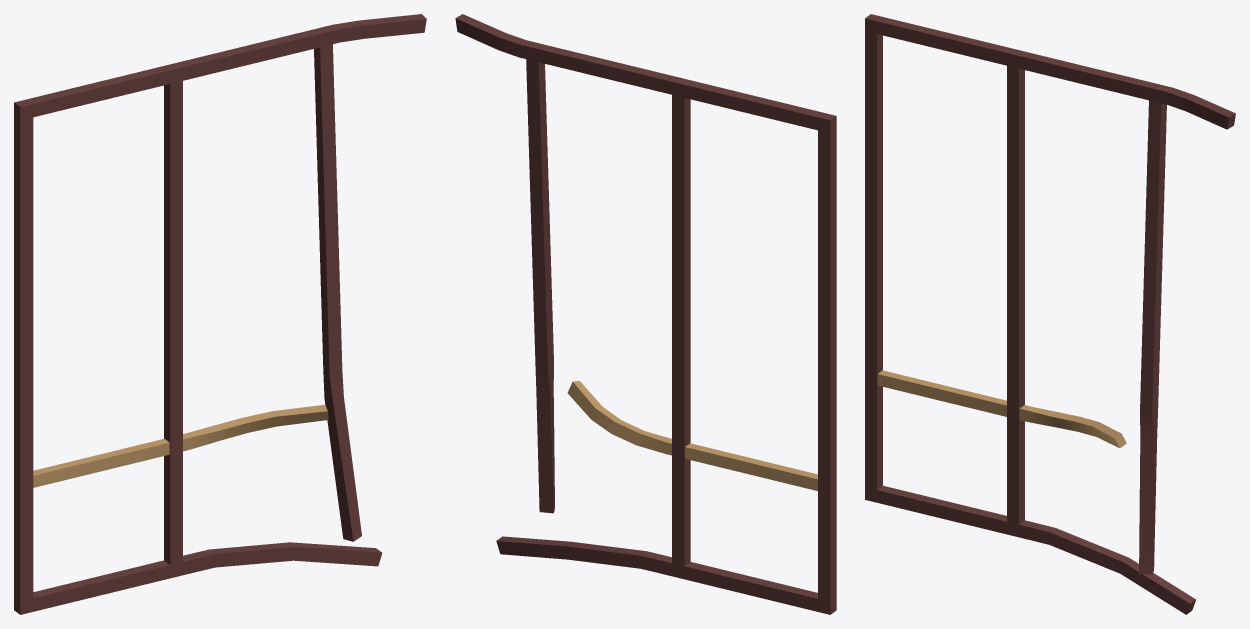
Rendered from DBK_WinBig_Metal_Side.fbx.
The picture shows the model from 3 angles, left to right: view 1: azimuth 30°, elevation 25°; view 2: azimuth 150°, elevation 25°; view 3: azimuth 330°, elevation 25°; orthographic projection. The views are drawn at different scales.
Visible parts, largest first — view 1: DBK_WinBig_Metal_Side; view 2: DBK_WinBig_Metal_Side; view 3: DBK_WinBig_Metal_Side.
Boxes of the visible parts, x1,y1,x2,y2 form: DBK_WinBig_Metal_Side: (14, 14, 426, 614); DBK_WinBig_Metal_Side: (455, 14, 836, 614); DBK_WinBig_Metal_Side: (865, 14, 1235, 614).
Size of the model in its own units: 171 by 222 by 21.31.
